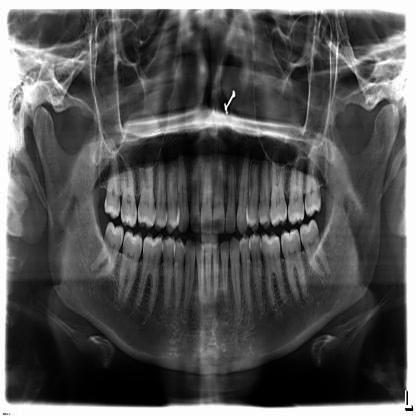Mandible: (33, 103, 400, 377)
Maxilla: (98, 146, 324, 237)
